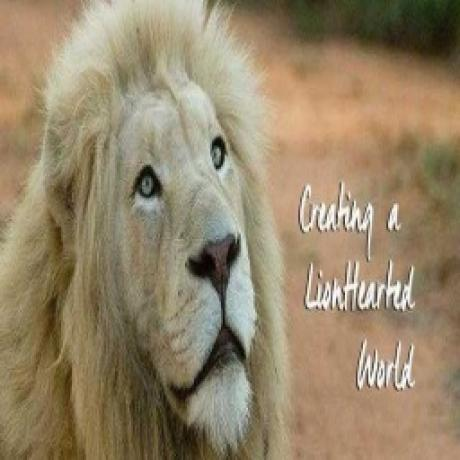Lion: (0, 0, 295, 460)
